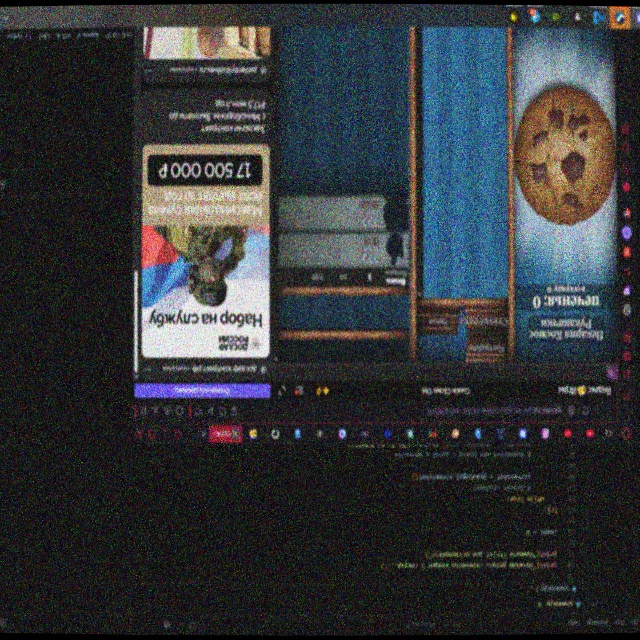game: (508, 80, 621, 234)
pokypki: (274, 192, 415, 269)
